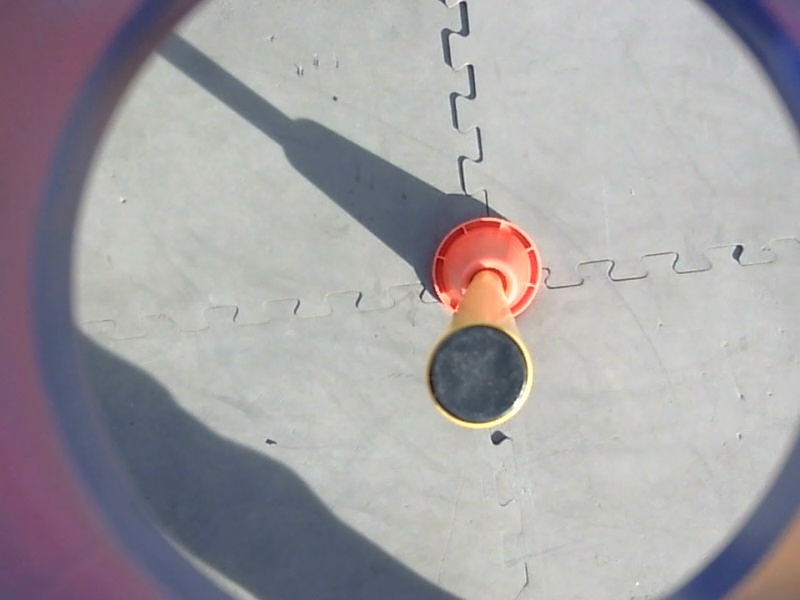tip: (420, 318, 539, 435)
